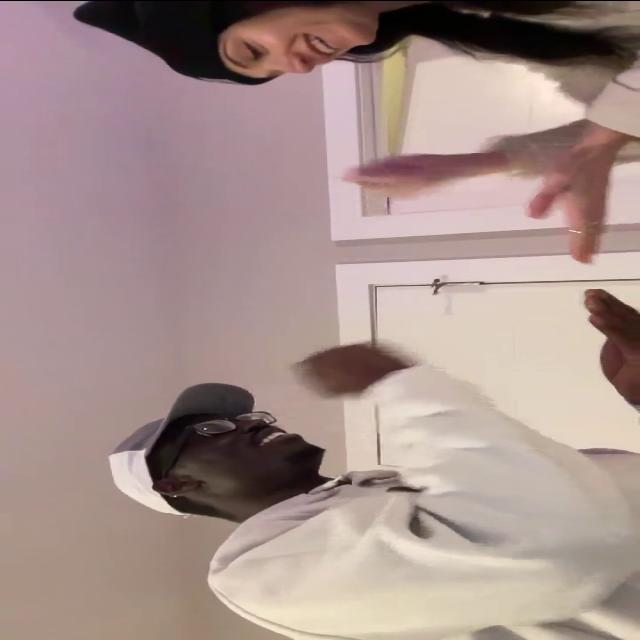Rock: (296, 343, 408, 397), (330, 152, 450, 198)
